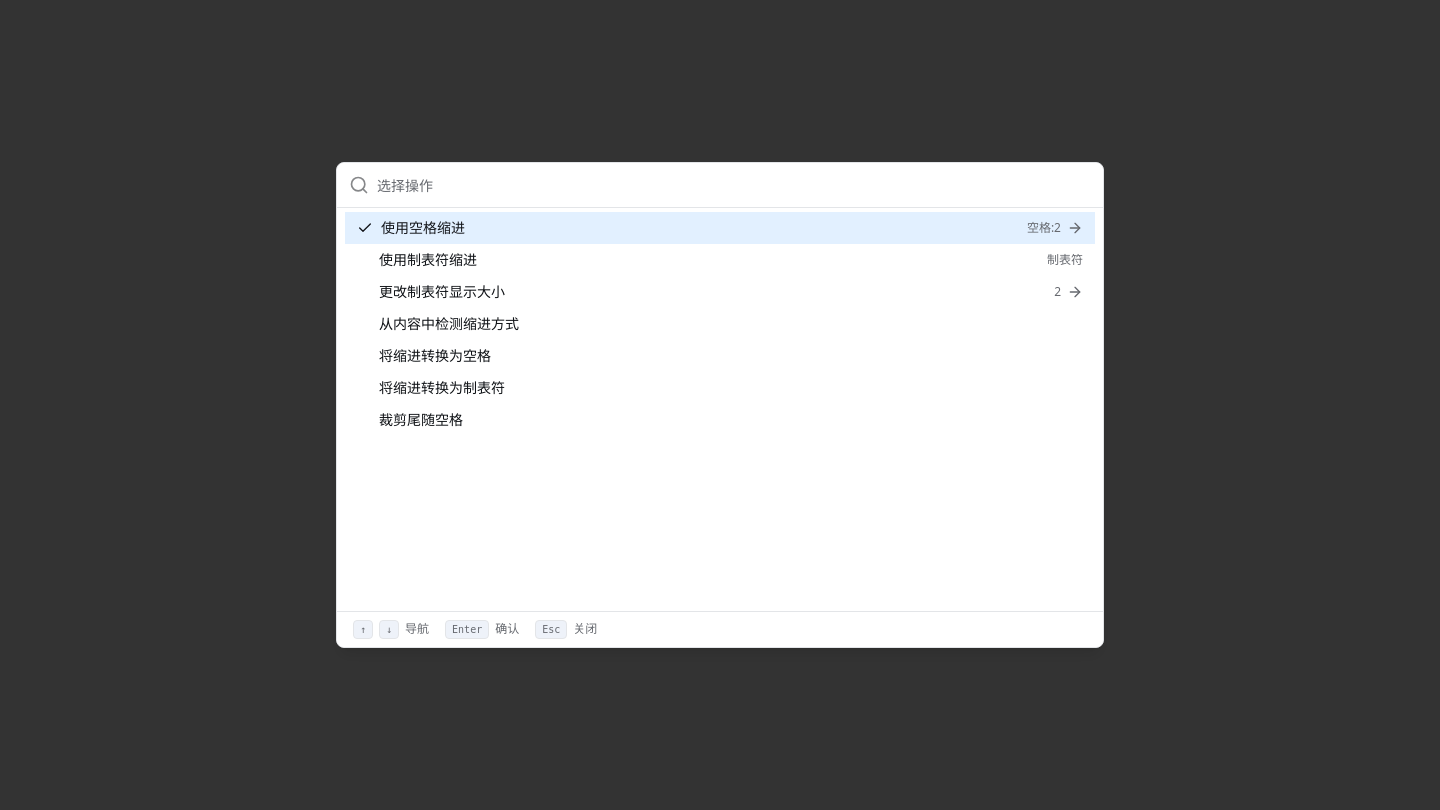
Test: IndentQuickPick › 二级列表「返回」回到根列表
The width and height of the screenshot is (1440, 810).
Click the option with test id "indent-display-size".
click(442, 292)  # box [379, 282, 1083, 301]
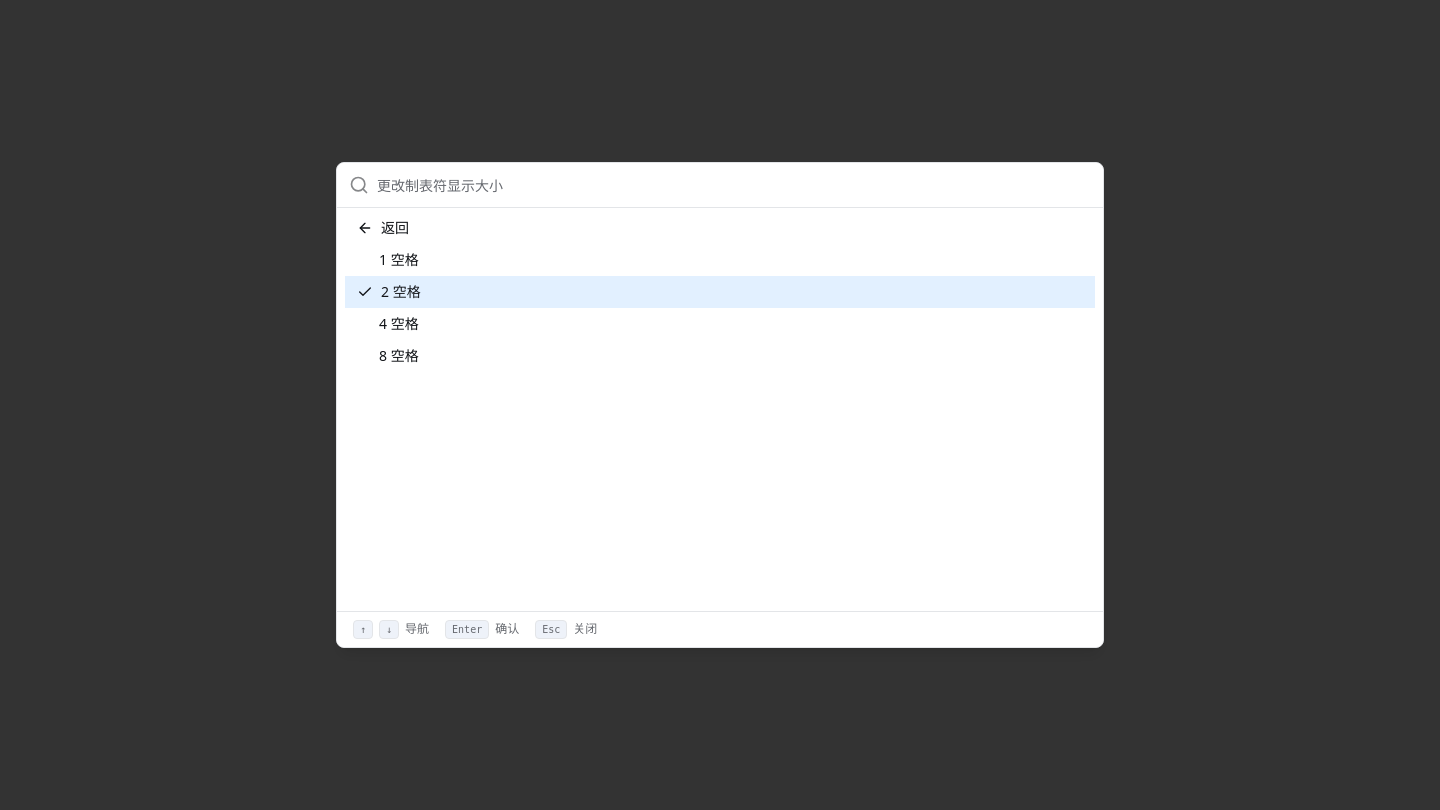
Click the option with test id "indent-back".
click(383, 228)  # box [357, 218, 409, 237]
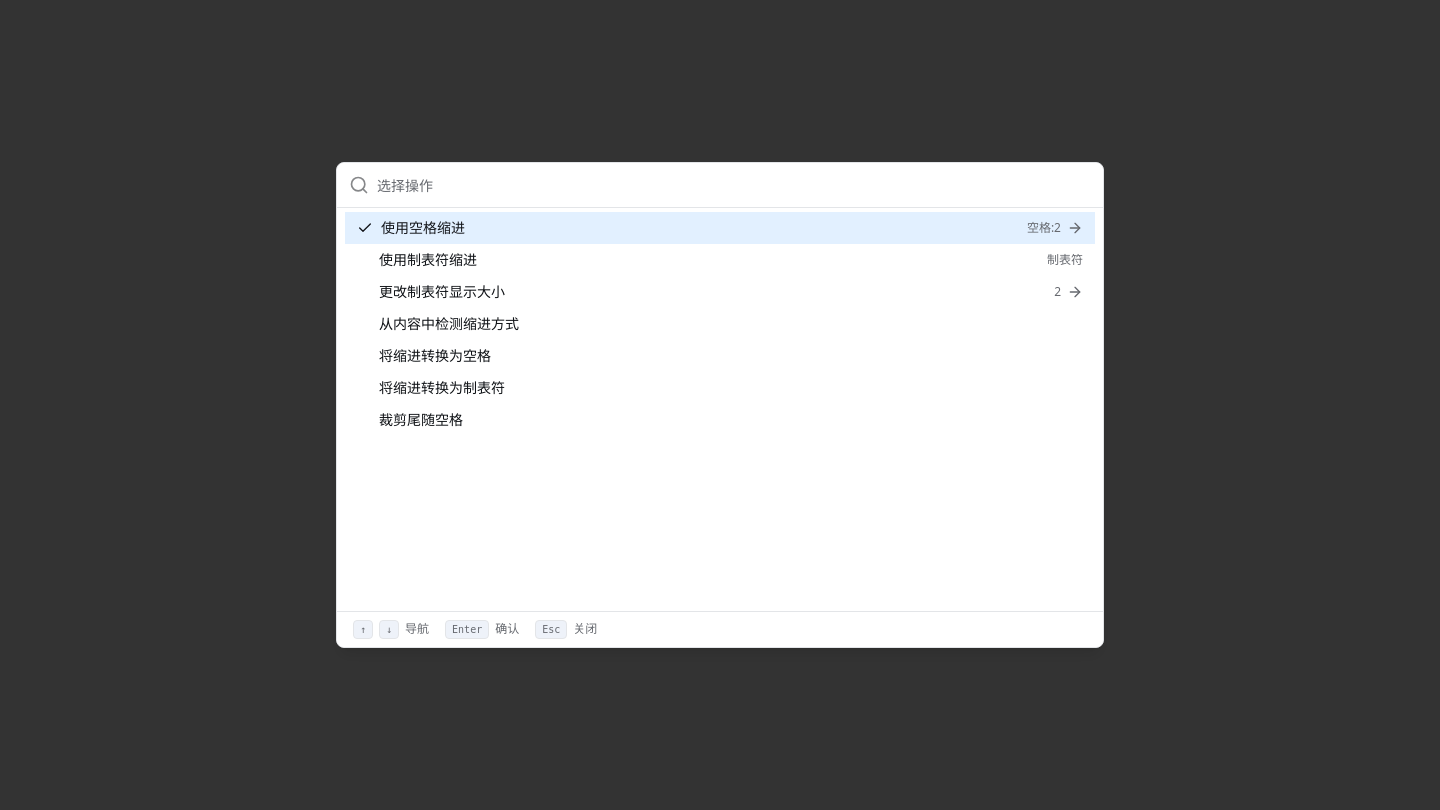
expect the option with test id "indent-detect" is shown: met, box [379, 314, 519, 333]
